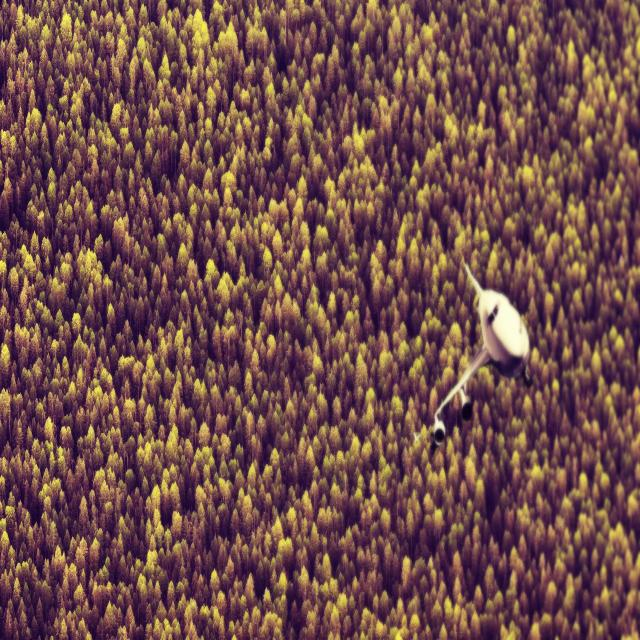airplane: (414, 258, 532, 447)
